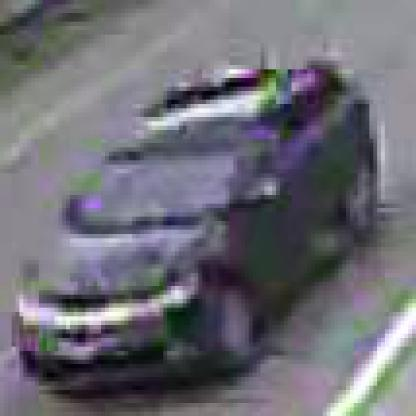car: (17, 75, 378, 408)
